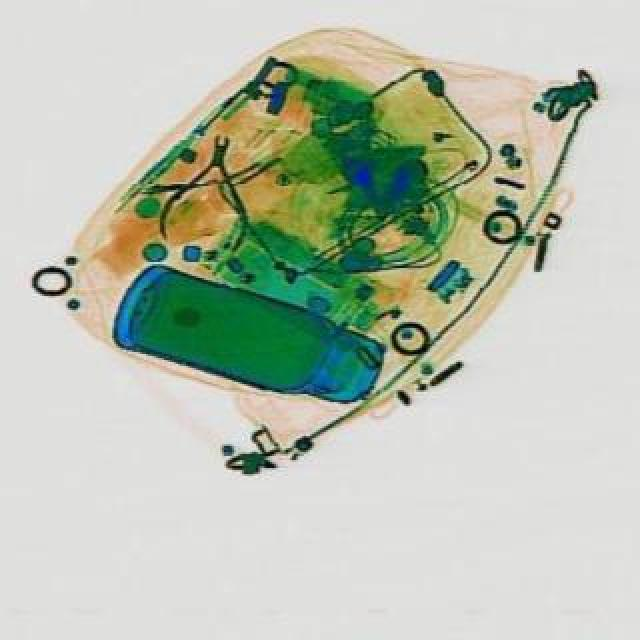wrench: (152, 128, 260, 252)
